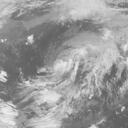cyclone: (24, 38, 101, 97)
